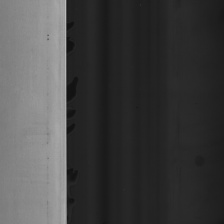oil_spot: (43, 125, 50, 223), (45, 29, 51, 44)
